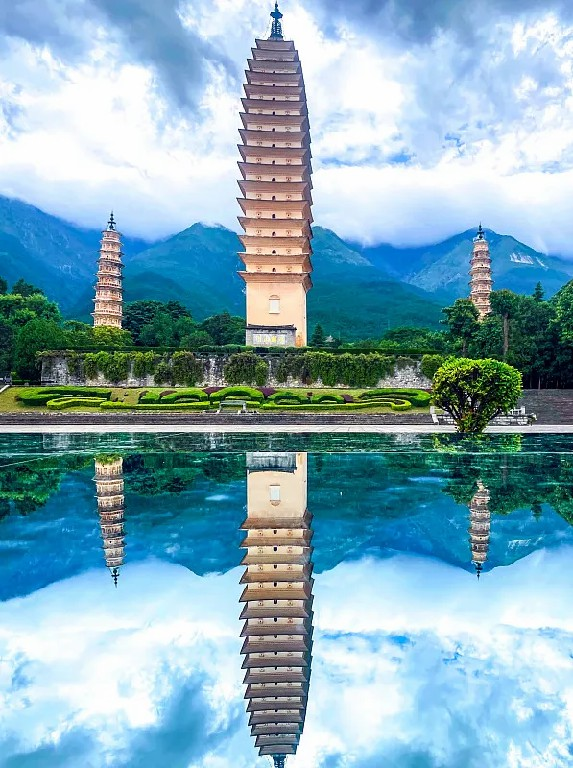ThreePagoda: (236, 1, 315, 347)
